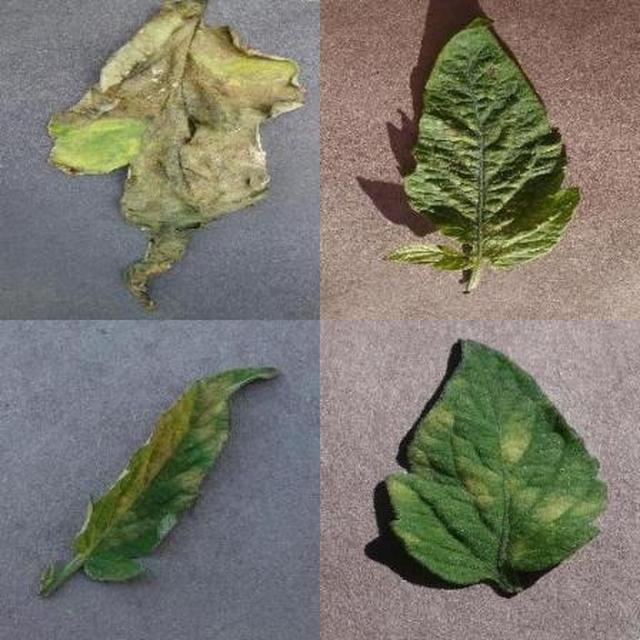Late Blight Leaf: (249, 204, 640, 640)
